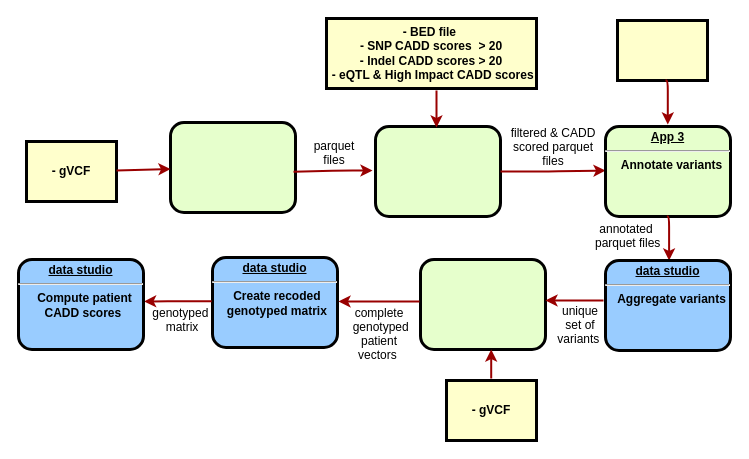
Image size: 749x459. Some labels were removed from this diagram. Here are the shapes that lost their labels. From the top down, the centre of each, then its label:
At point 662,50: "- Variant annotations".
At point 232,167: "App 1 Convert gVCF files to parquet format".
At point 438,171: "App 2 BED filtering & CADD scoring".
At point 482,304: "App 4 Find variants".
